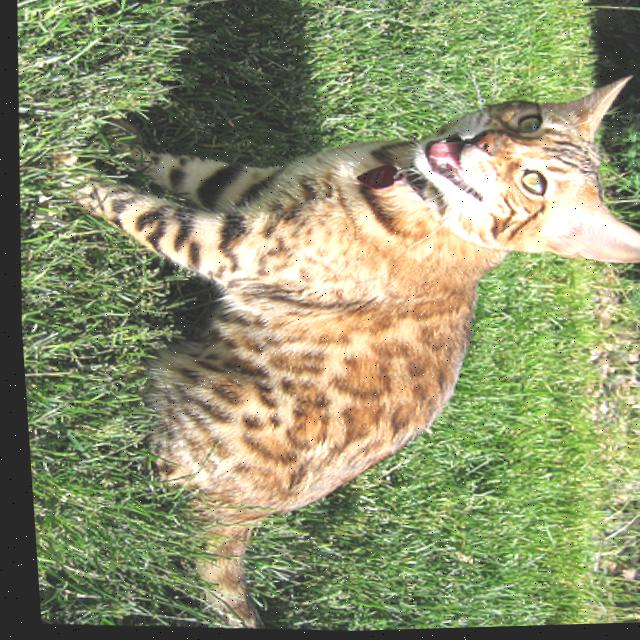Bengal: (11, 37, 640, 640)
